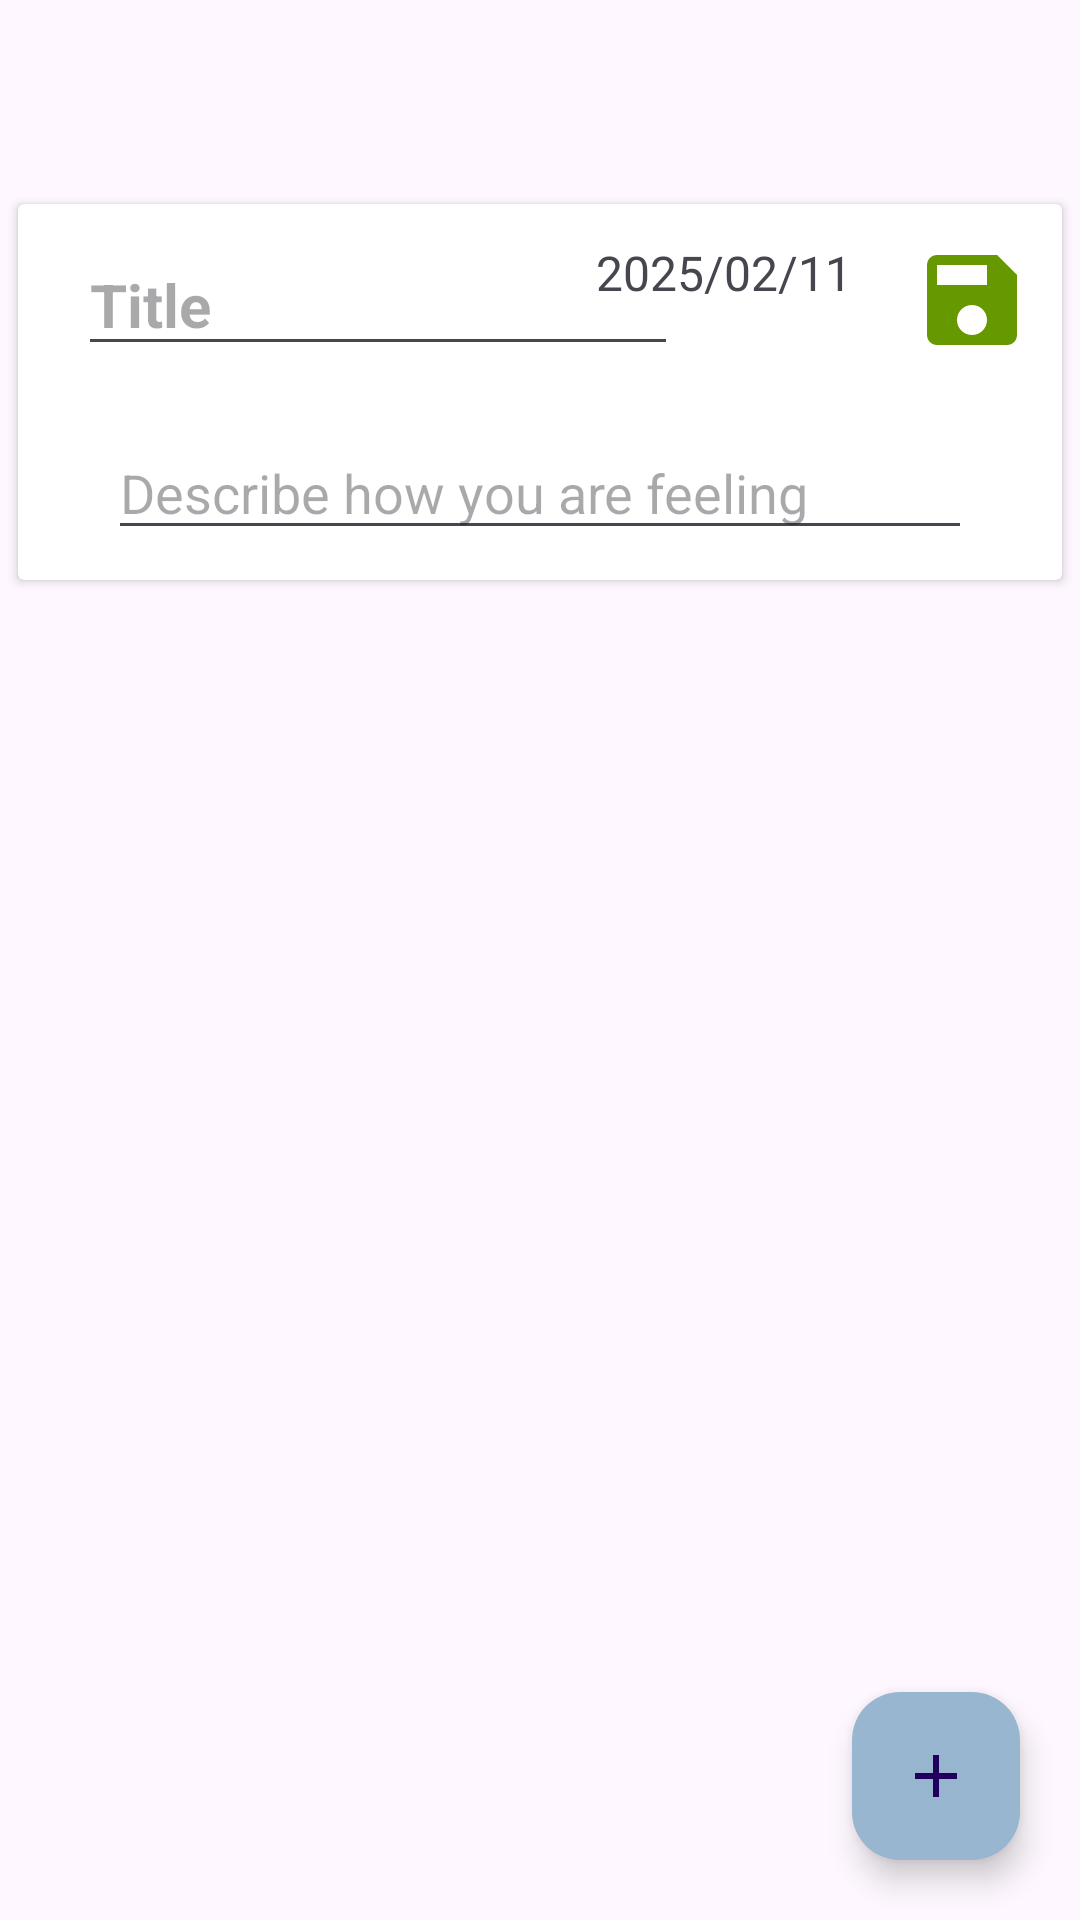

Named icons in this screenshot (1080px×1920px) and their bounding boxes, [x1=x1, y1=y1, x2=x2, y2=y2]:
add: [x1=852, y1=1692, x2=1020, y2=1860]
save: [x1=927, y1=255, x2=1017, y2=345]
